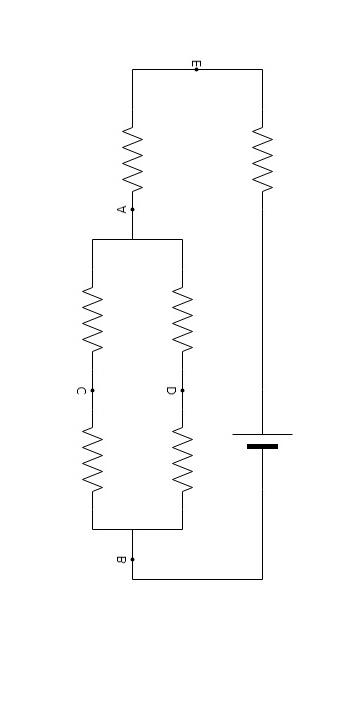resistor: (229, 106, 291, 208), (92, 115, 156, 194)
